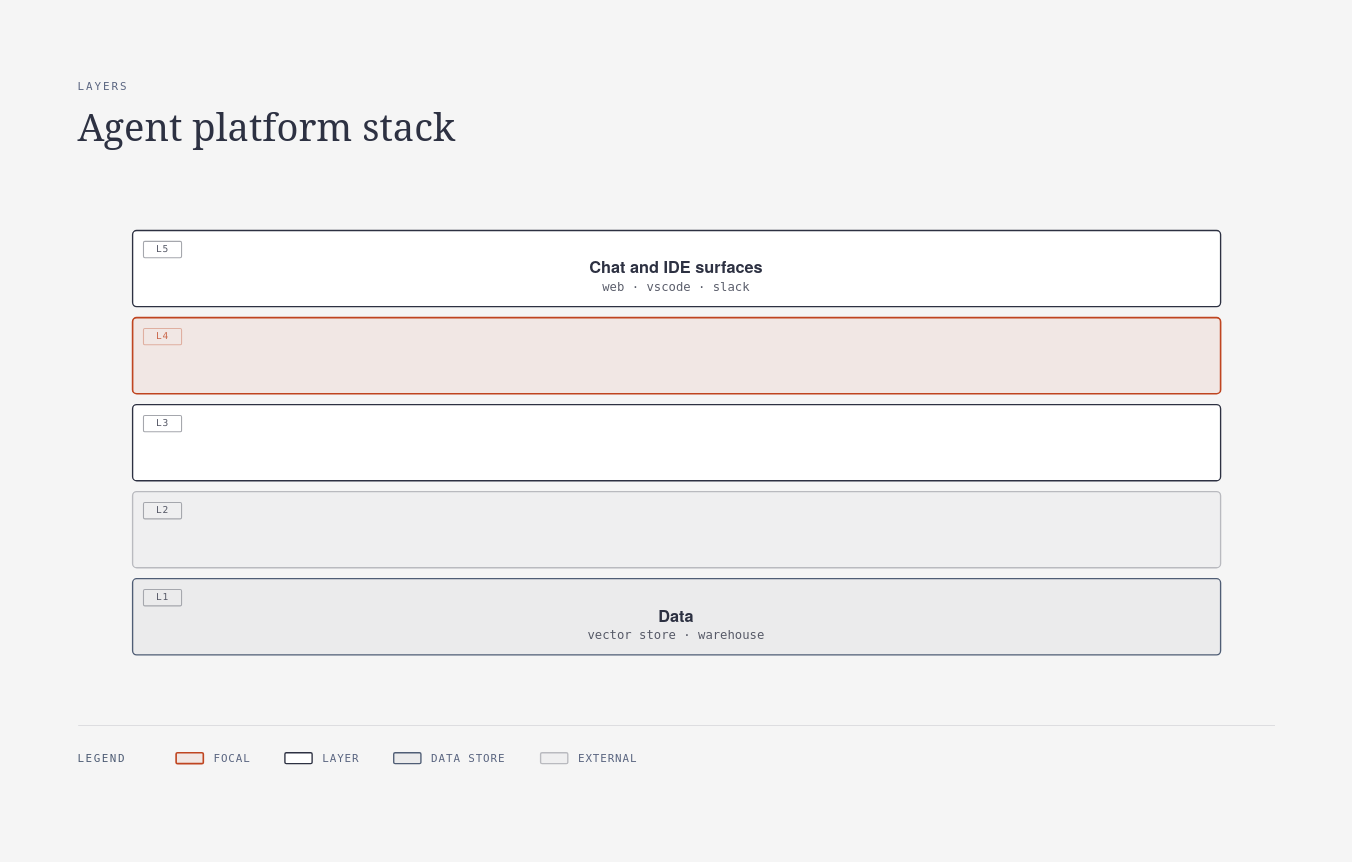
Image size: 1352x862. Some labels were removed from this diagram. The box of each missing label's shape, as (x1, y1, x2, y2) in pixels:
Models hosted LLM APIs: (131, 490, 1221, 568)
Orchestration planner · memory · policies: (131, 316, 1221, 394)
Tools and connectors MCP servers: (131, 403, 1221, 481)
